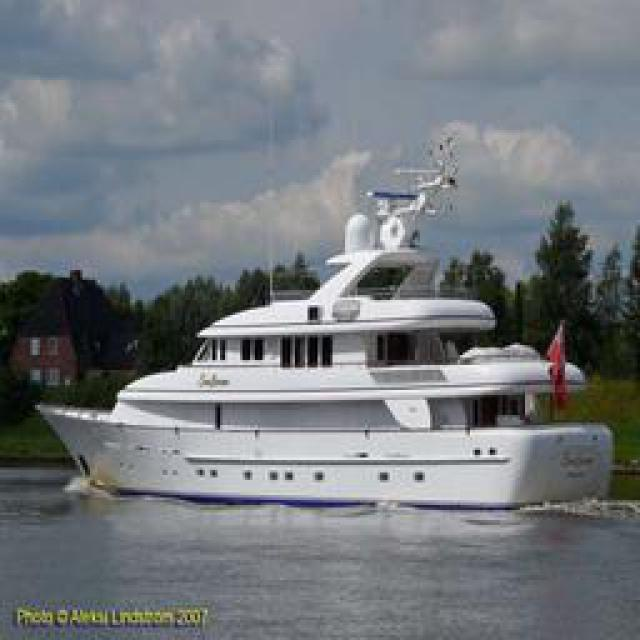Ship: (38, 154, 623, 504)
